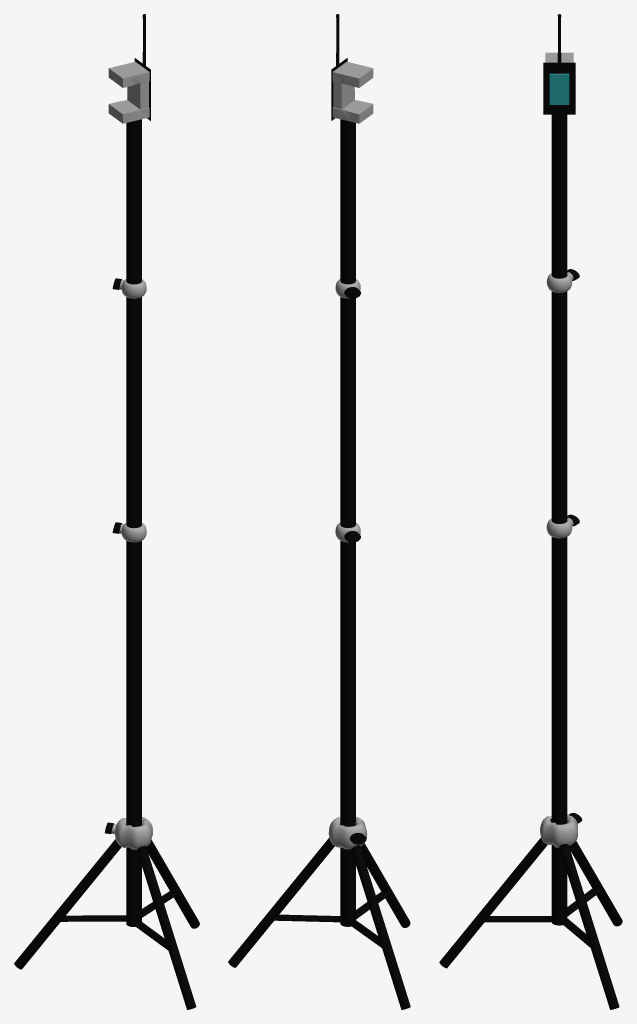
The model's file is UWB_DeviceS.fbx.
3 renders of one model, left to right at view 1: azimuth 30°, elevation 25°; view 2: azimuth 150°, elevation 25°; view 3: azimuth 270°, elevation 25°, orthographic.
Visible parts, largest first — view 1: polySurface106, polySurface93, polySurface89, polySurface88, polySurface111, polySurface103; view 2: polySurface106, polySurface93, polySurface88, polySurface111, polySurface89, polySurface103; view 3: polySurface106, polySurface111, polySurface89, polySurface94, polySurface88, polySurface103, polySurface95.
Boxes of the visible parts, box(x1,y1,x2,y2) form: polySurface106: box(126, 119, 141, 926); polySurface93: box(108, 61, 149, 123); polySurface89: box(137, 845, 196, 1009); polySurface88: box(14, 839, 121, 969); polySurface111: box(134, 821, 199, 928); polySurface103: box(115, 817, 152, 849); polySurface106: box(340, 119, 355, 926); polySurface93: box(332, 62, 373, 123); polySurface88: box(351, 845, 410, 1009); polySurface111: box(228, 838, 334, 967); polySurface89: box(360, 843, 410, 927); polySurface103: box(328, 817, 367, 849); polySurface106: box(551, 114, 567, 925); polySurface111: box(550, 818, 619, 1009); polySurface89: box(439, 837, 547, 968); polySurface94: box(543, 62, 575, 114); polySurface88: box(569, 841, 622, 926); polySurface103: box(540, 814, 577, 847); polySurface95: box(549, 73, 569, 104).
Size of the model in its own units: 4.23 by 21.03 by 3.64.
